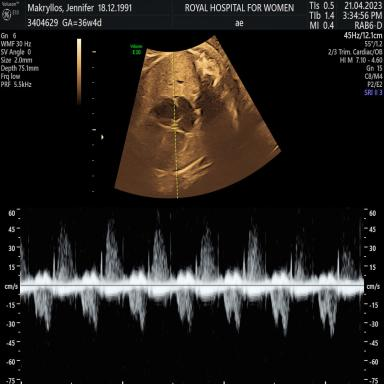Ultrasound-Waves: (25, 208, 362, 384)
